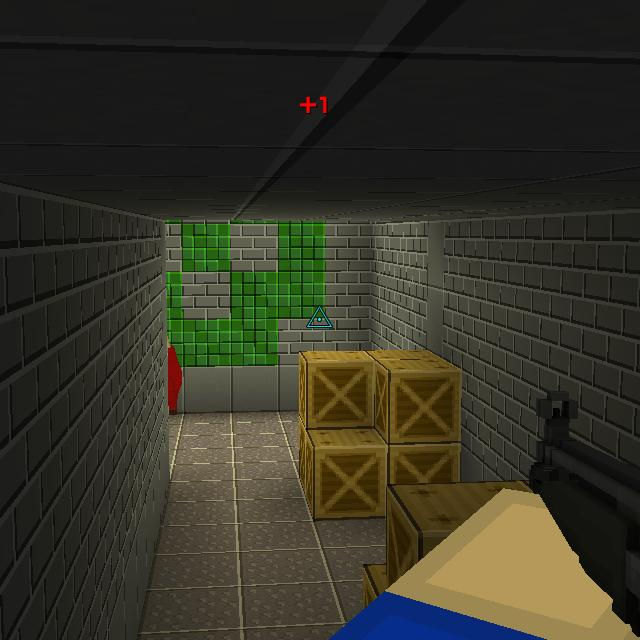enemy: (168, 336, 182, 413)
